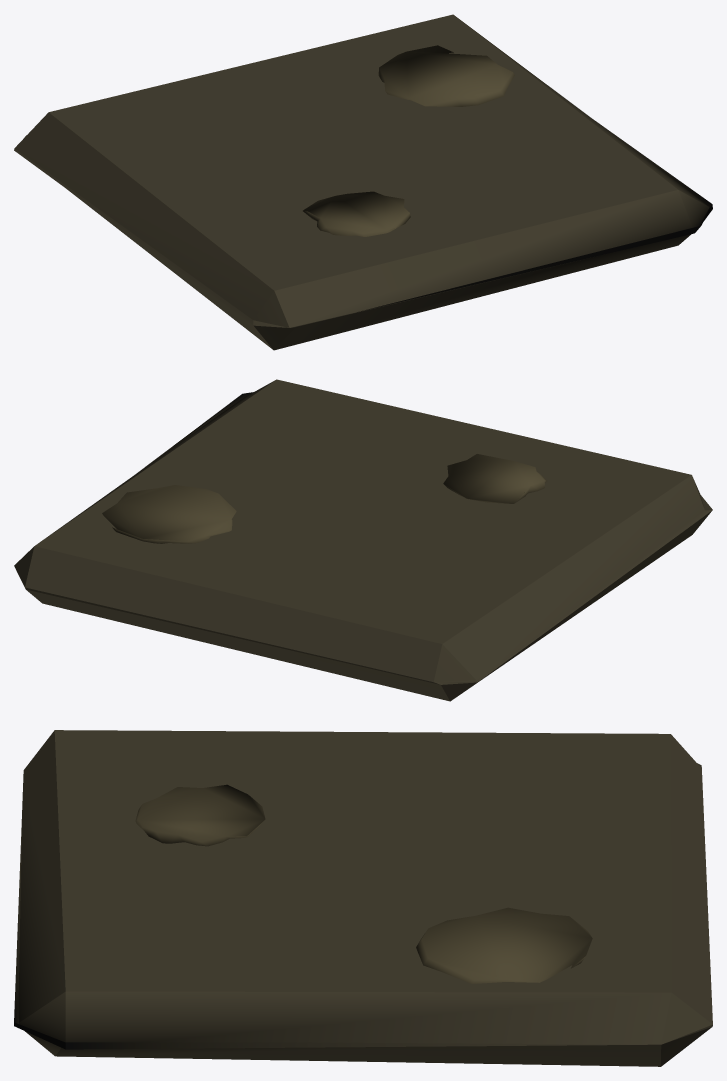
The model's file is floor_region2_v3.glb.
3 views of the same model, one above another, from view 1: azimuth 30°, elevation 25°; view 2: azimuth 150°, elevation 25°; view 3: azimuth 270°, elevation 25° (orthographic). The views are drawn at different scales.
Parts seen in each view (by area): view 1: floor_region2_v3; view 2: floor_region2_v3; view 3: floor_region2_v3.
Boxes of the visible parts, x1,y1,x2,y2 form: floor_region2_v3: [14, 14, 712, 350]; floor_region2_v3: [14, 379, 712, 701]; floor_region2_v3: [14, 730, 712, 1066].
Bounding box in the file's own units: 1.02 × 0.1385 × 1.02.
